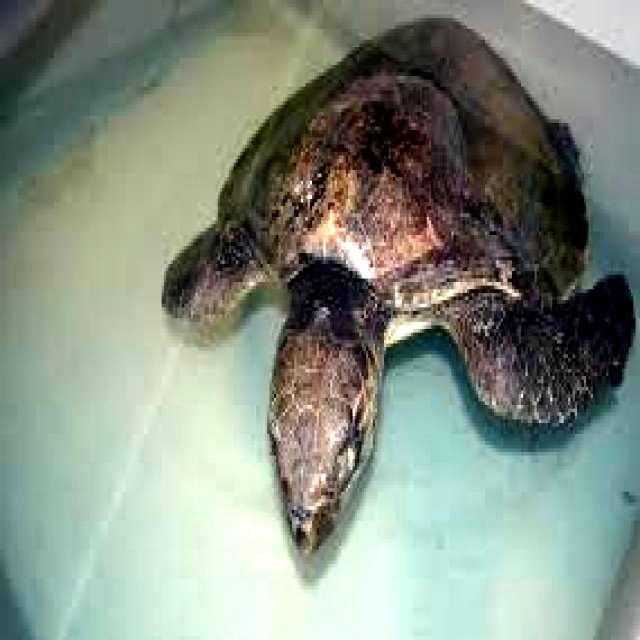Sea turtle: (155, 4, 640, 551)
